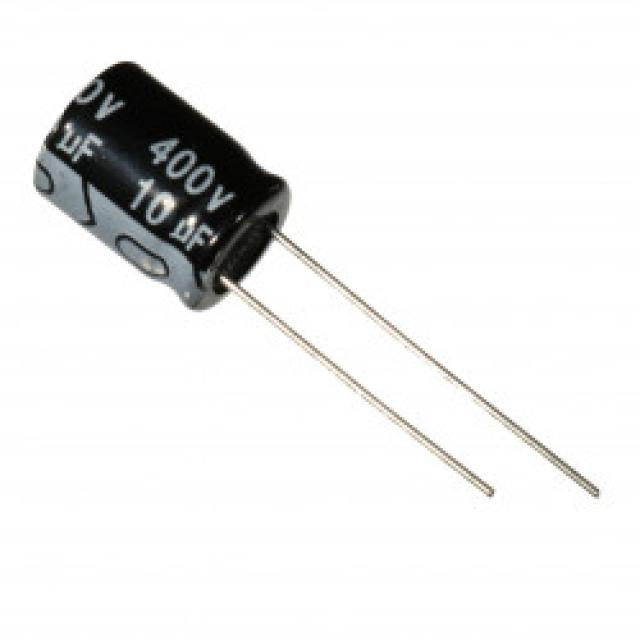Capacitor: (31, 64, 602, 499)
